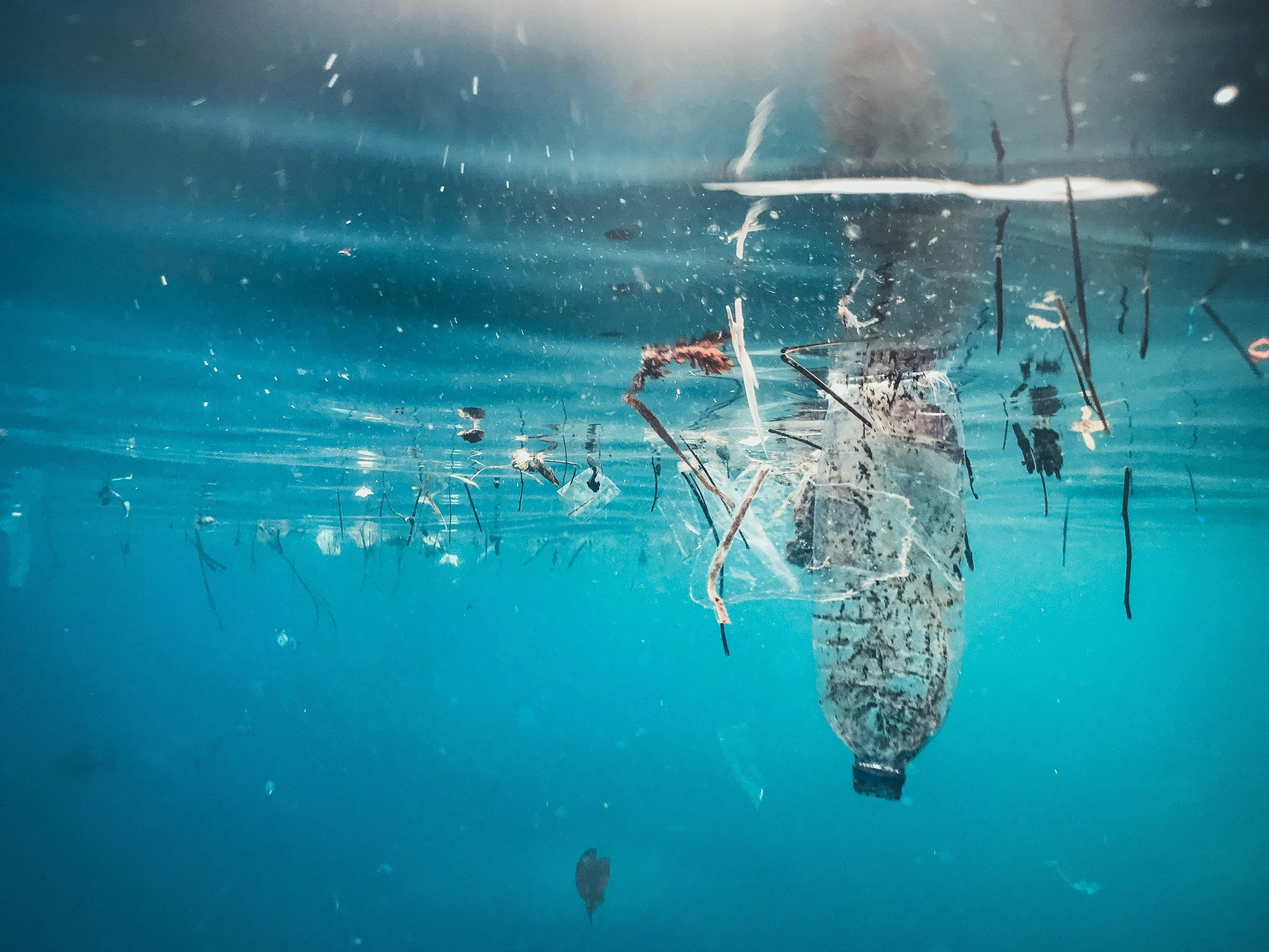Bottle-Detection: (781, 319, 1028, 853)
